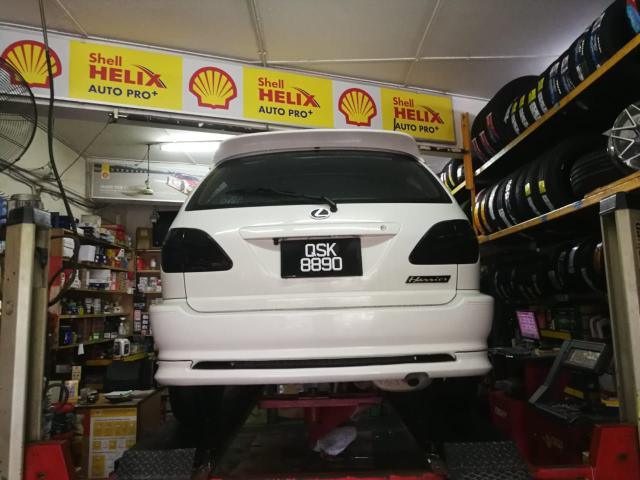License_Plate: (281, 241, 364, 278)
car: (139, 125, 491, 387)
